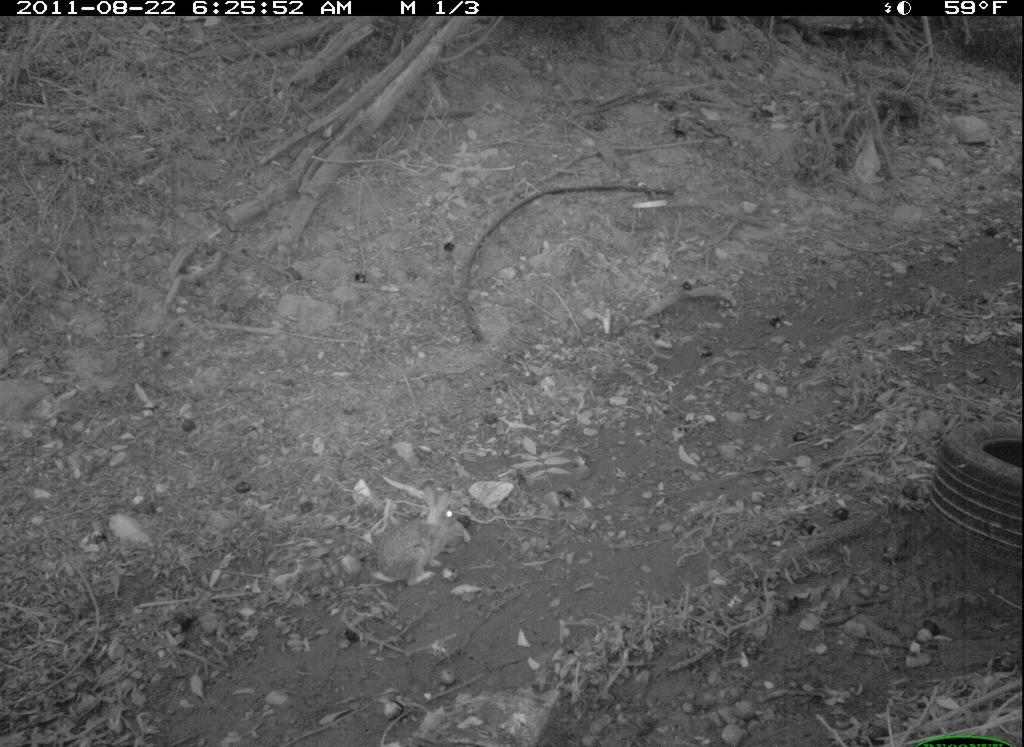rabbit: (376, 479, 472, 596)
